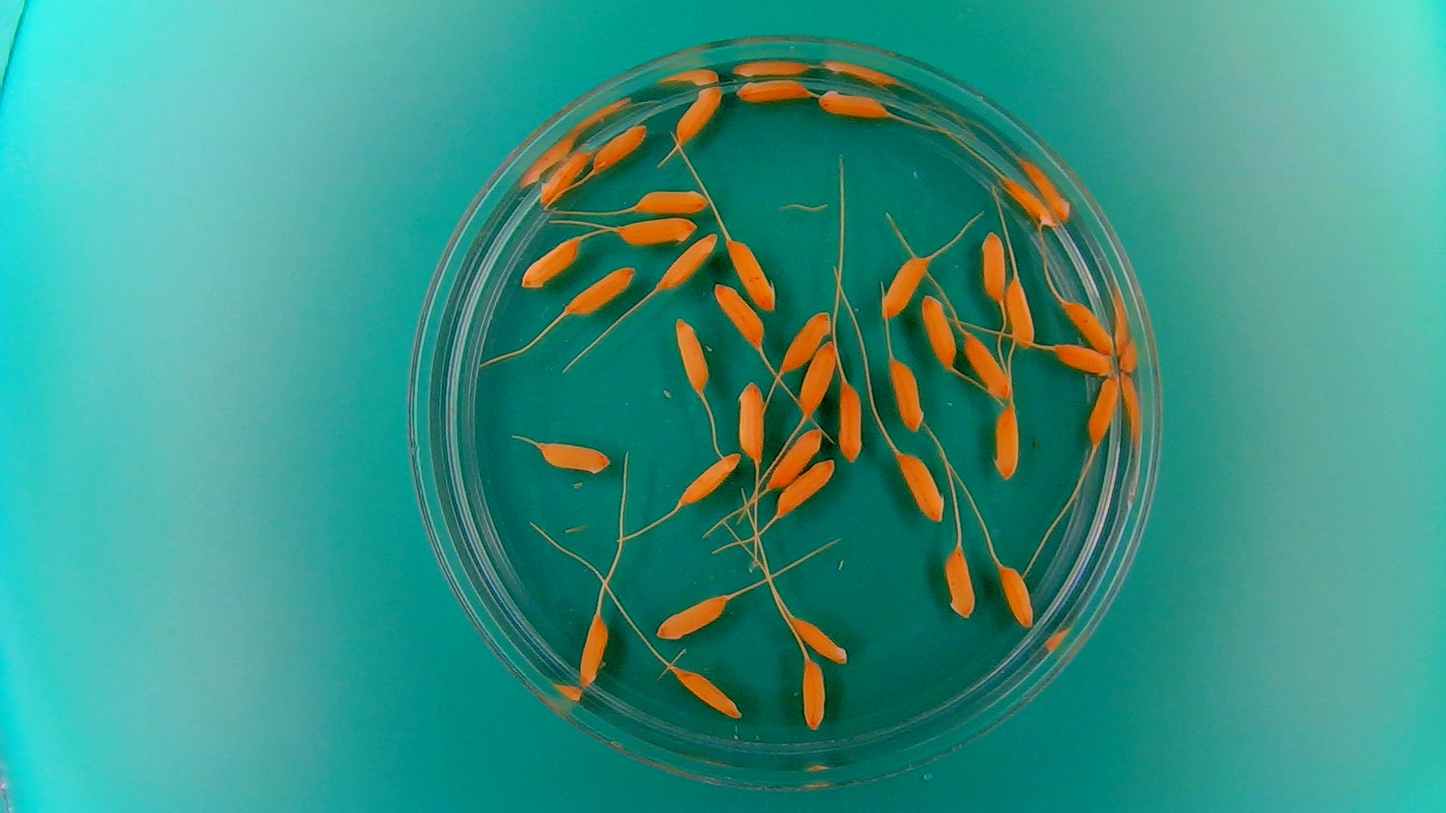no: (667, 662, 745, 722), (653, 230, 720, 294), (764, 425, 826, 492), (773, 455, 837, 519), (563, 263, 638, 317), (725, 236, 778, 312), (653, 591, 731, 642), (894, 448, 947, 523), (517, 233, 583, 291), (676, 450, 743, 507), (878, 251, 932, 321), (711, 281, 765, 350), (961, 329, 1012, 402), (536, 146, 595, 209), (587, 120, 650, 177), (1058, 297, 1118, 356), (999, 171, 1058, 230), (797, 340, 840, 419), (673, 314, 712, 400), (788, 611, 850, 665), (779, 309, 831, 373), (920, 291, 960, 372), (886, 356, 927, 434), (673, 84, 724, 146), (995, 558, 1038, 630), (733, 378, 768, 465), (535, 439, 612, 477), (941, 544, 978, 623), (812, 84, 889, 121), (616, 214, 701, 247), (1084, 373, 1122, 446), (834, 377, 865, 464), (575, 614, 610, 690), (990, 402, 1022, 484), (796, 655, 830, 732), (1046, 341, 1114, 379), (1003, 273, 1036, 349), (633, 185, 709, 215), (977, 229, 1007, 303), (734, 76, 813, 103)
